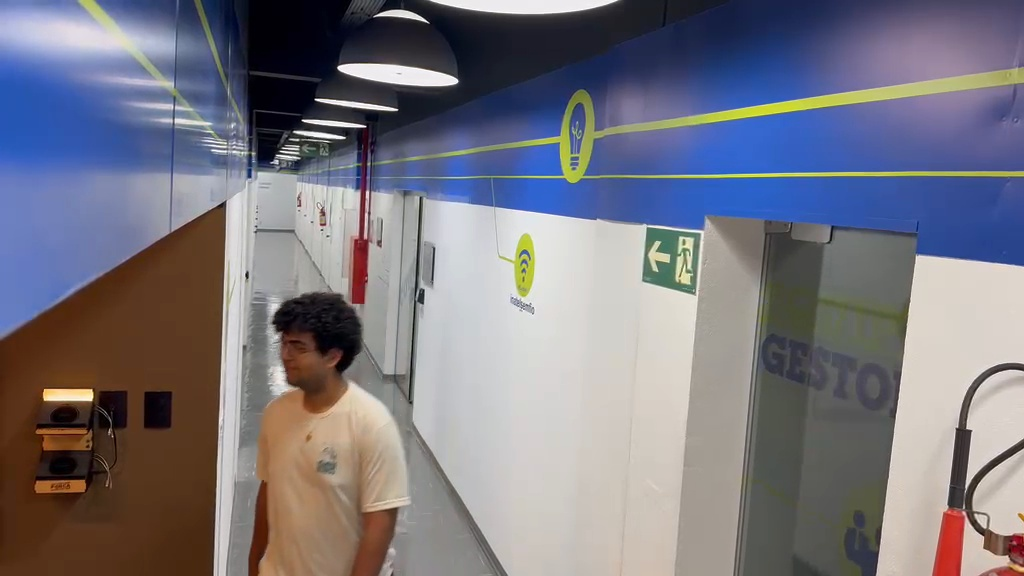person: (249, 291, 410, 574)
